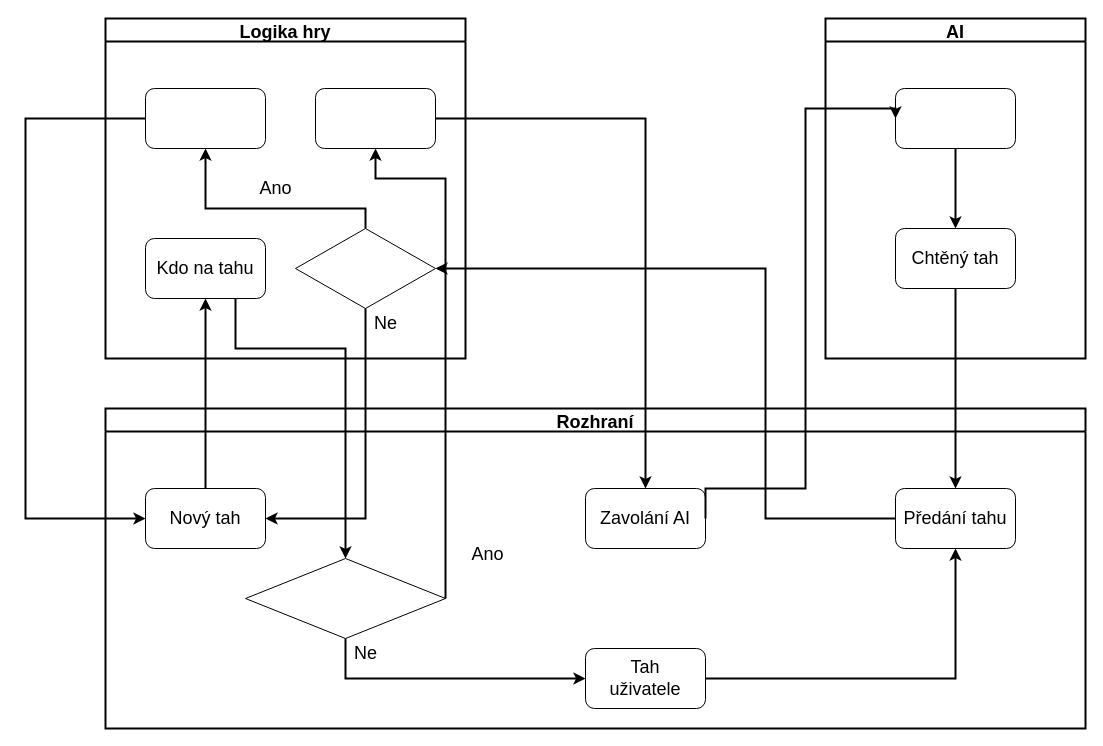
The diagram is 1103 pixels wide and 746 high, and some of its shapes have lost their labels. The shapes that lost their labels are listed below. From the top down, each one's centre as x and y in pixels, then its label:
At pixel 205 118: "Úprava stavu".
At pixel 375 118: "Stav hry".
At pixel 955 118: "Proces stavu".
At pixel 365 268: "Tah přípustný".
At pixel 345 598: "Počítač".
